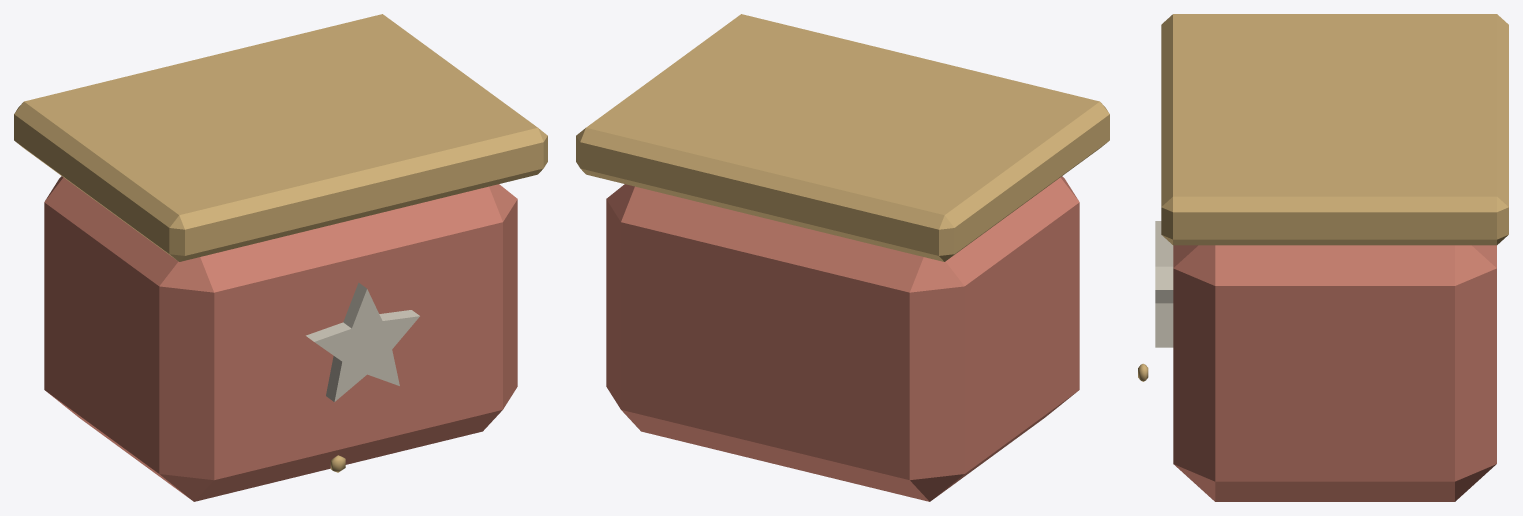
3 renders of one model, left to right at view 1: azimuth 30°, elevation 25°; view 2: azimuth 150°, elevation 25°; view 3: azimuth 270°, elevation 25°, orthographic. The views are drawn at different scales.
Visible parts, largest first — view 1: g_s57; view 2: g_s57; view 3: g_s57.
Boxes of the visible parts, x1=… form: g_s57: x1=14, y1=14, x2=547, y2=501; g_s57: x1=576, y1=14, x2=1109, y2=501; g_s57: x1=1138, y1=14, x2=1508, y2=501.
Bounding box in the file's own units: 0.38 × 0.2975 × 0.3093.
